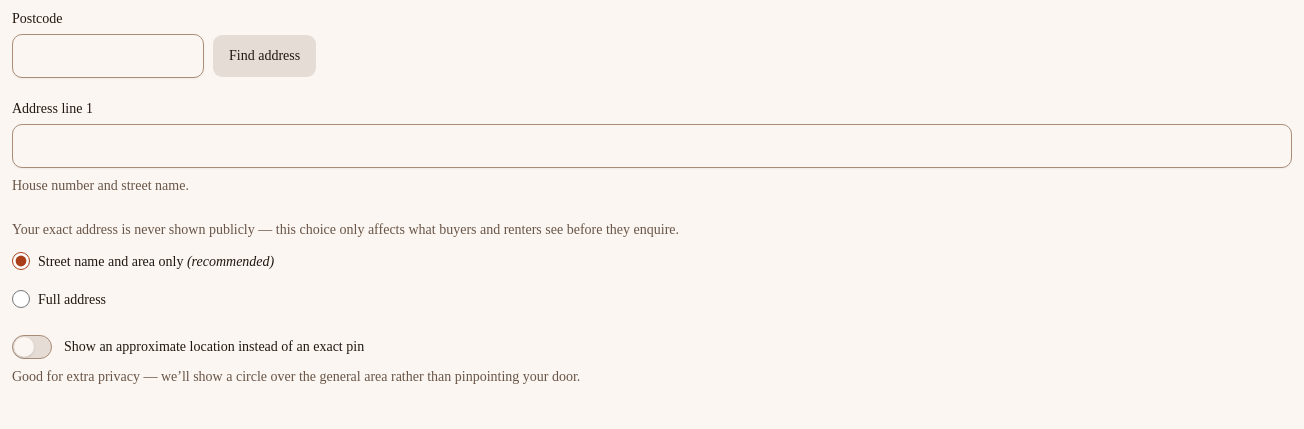
StepAddress › happy path: a successful lookup fills town/outcode/location and shows the confirmation line
Step 1. Type "RG1 1AA" into the field labelled "Postcode" → (108, 56), box [12,34,204,78]
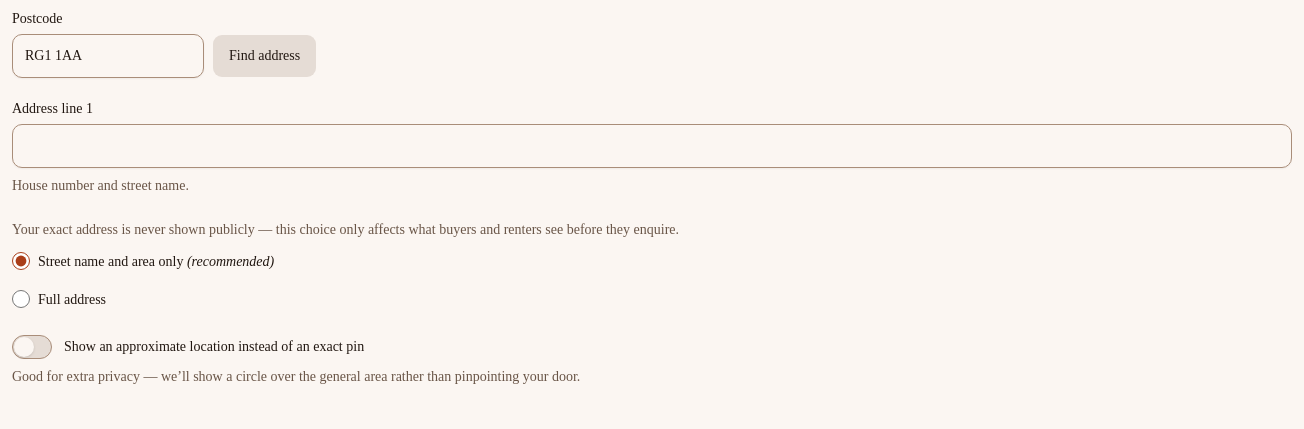
Step 2. Click the button "Find address" → click(265, 56), box [212,34,317,78]
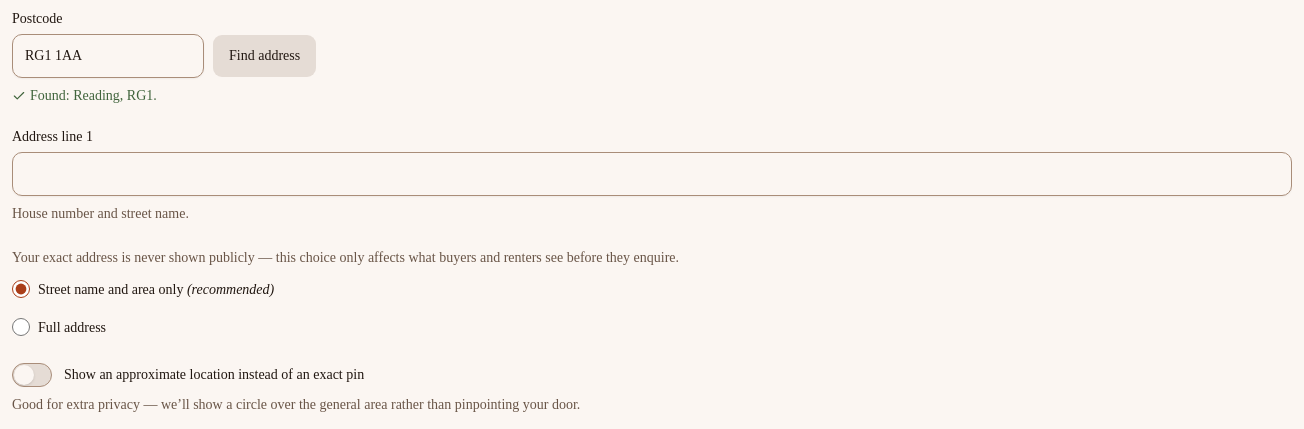
Result: the text "Found: Reading, RG1." is shown at [12,88,157,103]
